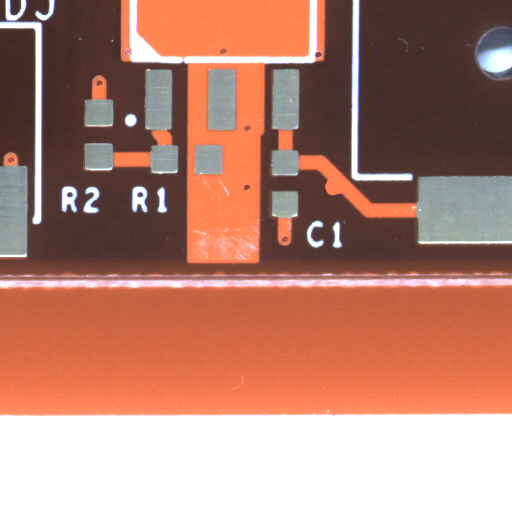Spur: (332, 187, 349, 204)
